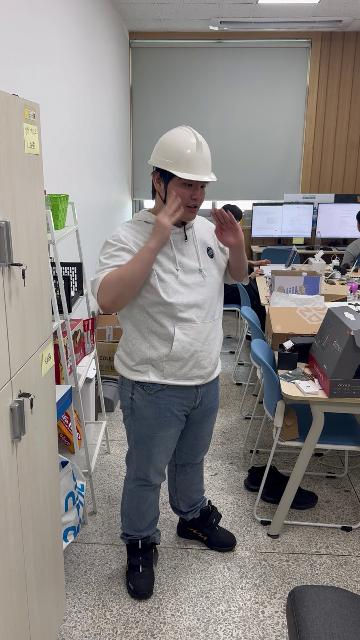helmet_worn: (146, 124, 219, 182)
shoe_not_worn: (246, 463, 316, 506), (244, 463, 278, 492)
shoe_worn: (176, 501, 237, 551), (124, 537, 158, 600)
vest_not_worn: (109, 216, 226, 391)
